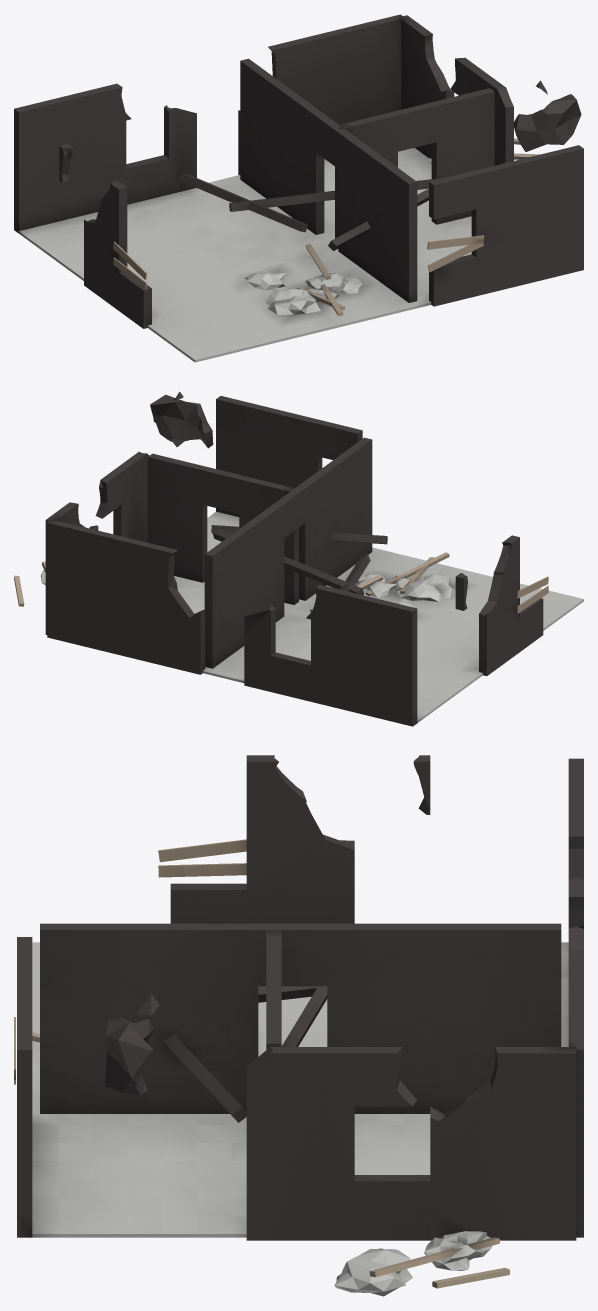
Rendered from casa_r4.glb.
3 views of the same model, one above another, from view 1: azimuth 30°, elevation 25°; view 2: azimuth 150°, elevation 25°; view 3: azimuth 270°, elevation 25° (orthographic). The views are drawn at different scales.
Parts seen in each view (by area): view 1: chao, ext0_2, int_0, ext0_0, int_1, ext0_1, ext0_3, entulho, viga_queimada_0, viga_queimada_1, ext0_0_tabua_66, viga_queimada_2 (+1 smaller); view 2: ext0_2, int_0, chao, int_1, ext0_0, ext0_1, ext0_3, entulho, viga_queimada_1, viga_queimada_2, ext0_3_tabua_53; view 3: int_0, ext0_1, chao, ext0_3, ext0_2, entulho_fora, ext0_0, ext0_3_tabua_53, int_1, viga_queimada_2, viga_queimada_1.
Part boxes in pixels (x1,y1,x2,y2): chao: (18, 147, 471, 362); ext0_2: (14, 14, 404, 233); int_0: (240, 58, 417, 302); ext0_0: (429, 145, 583, 306); int_1: (335, 88, 494, 238); ext0_1: (399, 15, 581, 165); ext0_3: (59, 144, 151, 328); entulho: (244, 243, 362, 316); viga_queimada_0: (179, 173, 307, 232); viga_queimada_1: (229, 178, 436, 211); ext0_0_tabua_66: (427, 235, 484, 272); viga_queimada_2: (328, 188, 428, 250); ext0_2: (47, 519, 417, 726); int_0: (204, 437, 372, 668); chao: (174, 511, 583, 722); int_1: (147, 453, 298, 604); ext0_0: (216, 396, 362, 516); ext0_1: (45, 391, 213, 634); ext0_3: (455, 535, 543, 675); entulho: (310, 552, 455, 612); viga_queimada_1: (212, 528, 363, 594); viga_queimada_2: (211, 525, 387, 544); ext0_3_tabua_53: (517, 576, 548, 613); int_0: (40, 923, 561, 1113); ext0_1: (105, 994, 576, 1240); chao: (32, 942, 568, 1237); ext0_3: (170, 755, 430, 923); ext0_2: (568, 758, 583, 1237); entulho_fora: (334, 1231, 509, 1296); ext0_0: (17, 937, 32, 1237); ext0_3_tabua_53: (158, 839, 246, 877); int_1: (266, 930, 281, 1049); viga_queimada_2: (164, 1035, 246, 1122); viga_queimada_1: (245, 986, 327, 1112).
Size of what is drawn, in the model's own units: 12.29 by 4.16 by 8.27.
